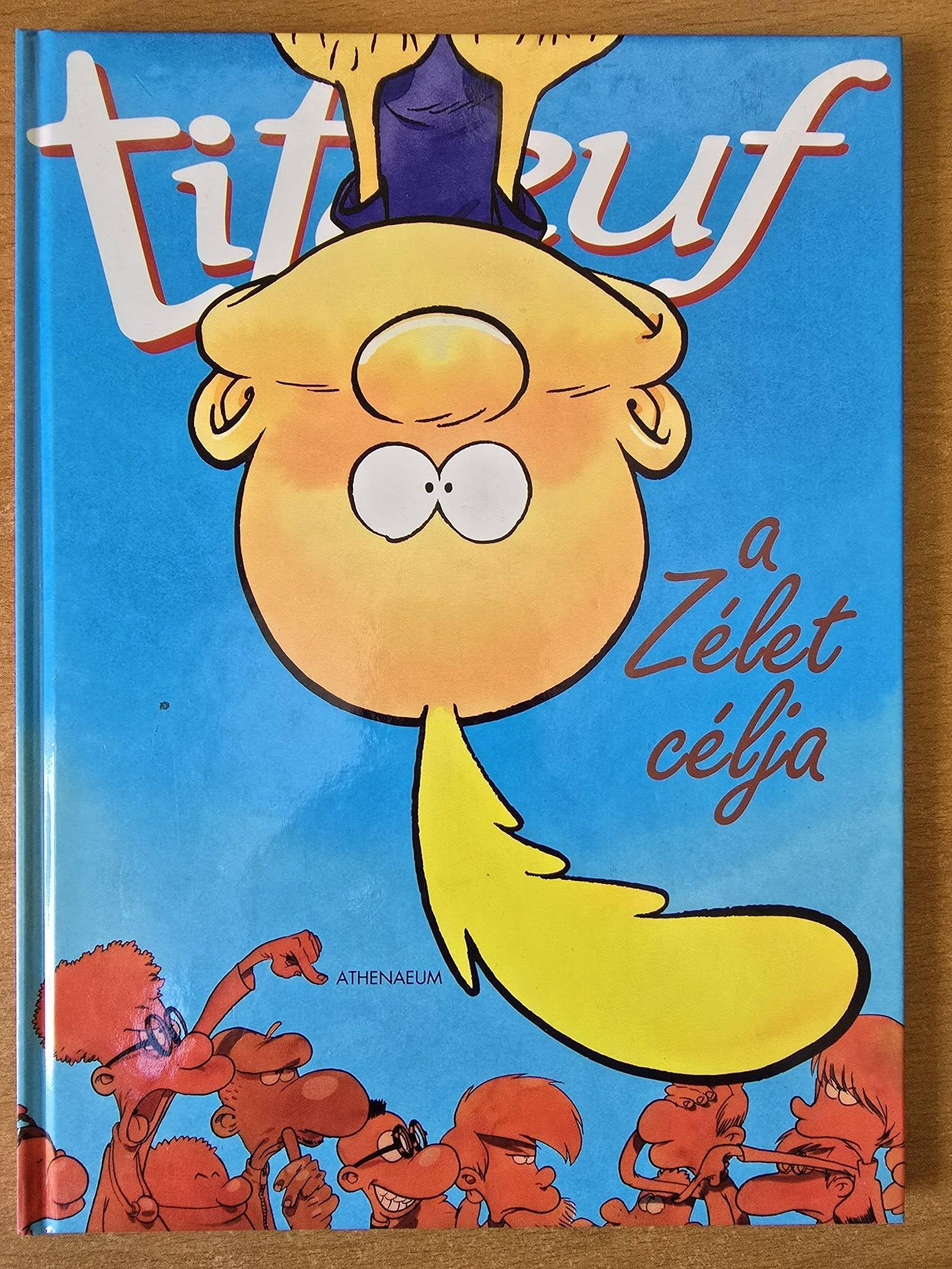comic: (16, 31, 904, 1231)
